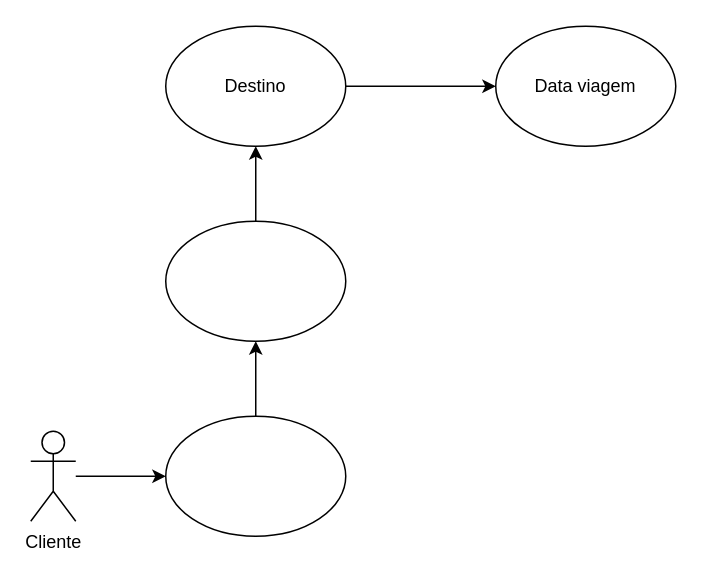
Some shapes in this 702 by 579 pixel diagram are drawn without their labels. The centre of each missing label's shape, as x and y in pixels:
Local origem: point 255,280
Trecho: point 255,475
